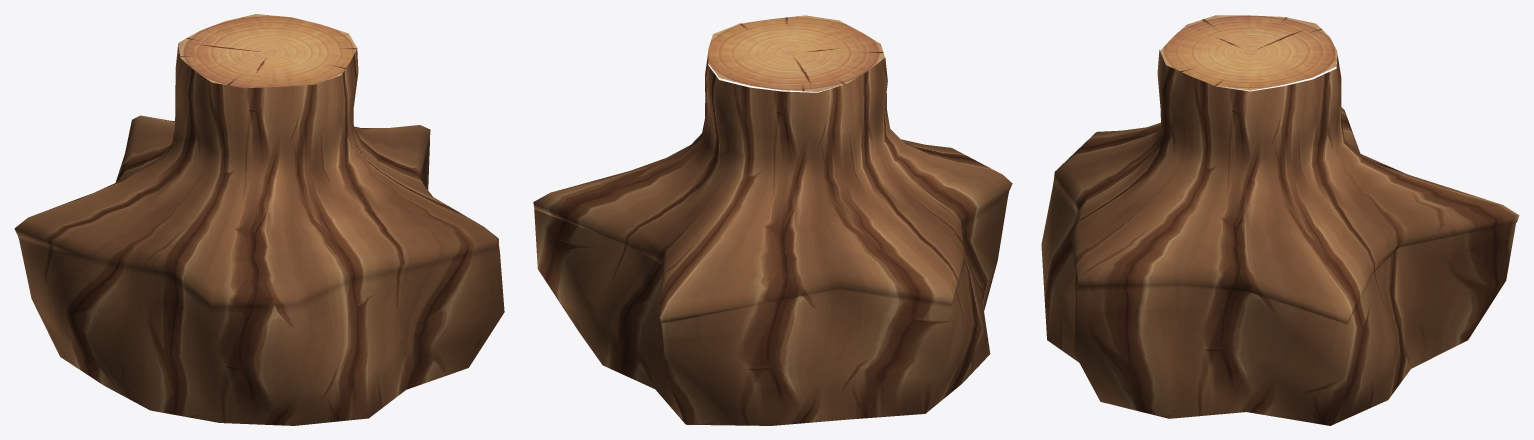
The model's file is stump1.gltf.
3 renders of one model, left to right at view 1: azimuth 30°, elevation 25°; view 2: azimuth 150°, elevation 25°; view 3: azimuth 270°, elevation 25°, orthographic.
Visible parts, largest first — view 1: stump1_bark_LOD0, stump1_cap_LOD0; view 2: stump1_bark_LOD0, stump1_cap_LOD0; view 3: stump1_bark_LOD0, stump1_cap_LOD0.
Part boxes in pixels (x1,y1,x2,y2): stump1_bark_LOD0: (14, 44, 504, 425); stump1_cap_LOD0: (178, 14, 357, 88); stump1_bark_LOD0: (533, 52, 1012, 425); stump1_cap_LOD0: (708, 15, 884, 91); stump1_bark_LOD0: (1041, 50, 1519, 425); stump1_cap_LOD0: (1160, 15, 1337, 90).
Size of what is drawn, in the model's own units: 1.28 by 0.8555 by 1.27.
Materials: 2 (2 with a texture image).
